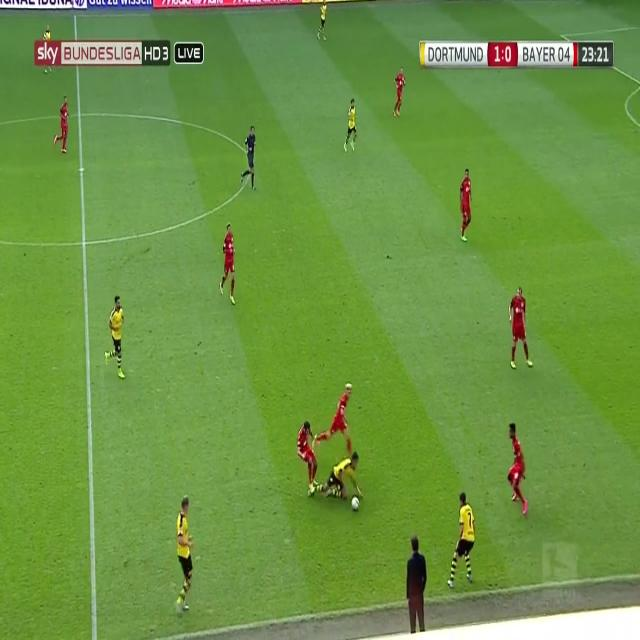Ball: (350, 490, 362, 514)
Player: (443, 488, 477, 591), (314, 378, 356, 460), (173, 493, 198, 615), (505, 416, 531, 520), (313, 451, 365, 503), (102, 285, 128, 385), (507, 283, 533, 373), (295, 412, 320, 493), (218, 218, 239, 312), (459, 165, 473, 248), (390, 64, 408, 124), (342, 96, 360, 154), (53, 97, 70, 154), (314, 0, 331, 48)
Referee: (240, 122, 258, 191)
